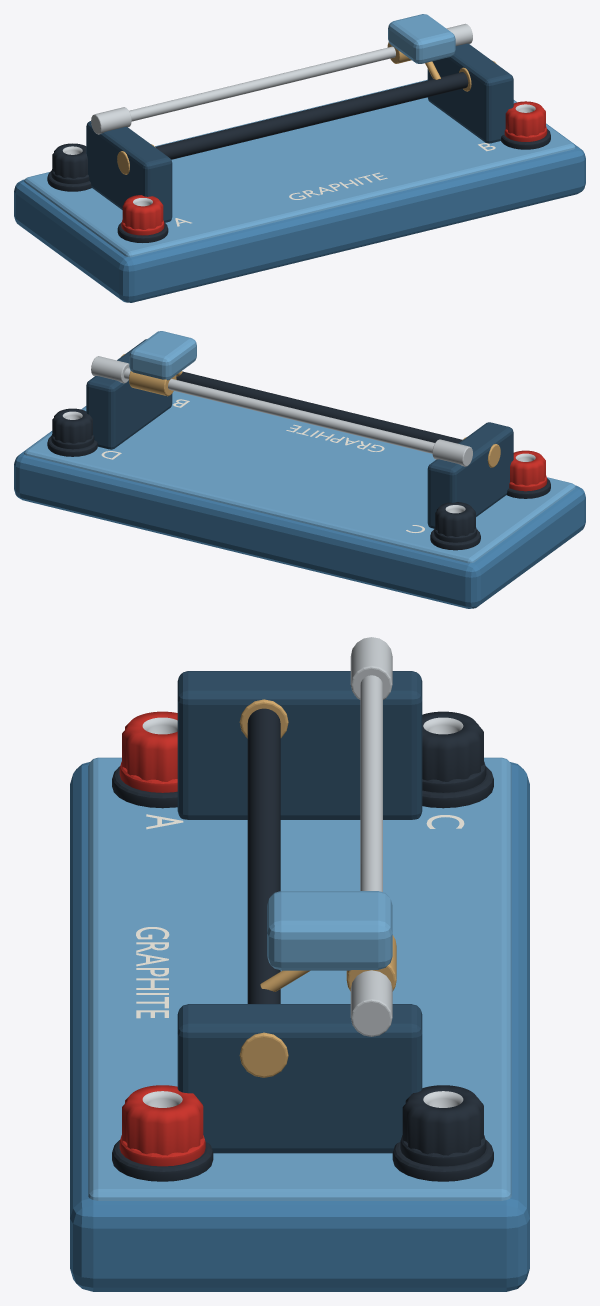
Rendered from pencil-rheostat.glb.
The picture shows the model from 3 angles, top to bottom: view 1: azimuth 30°, elevation 25°; view 2: azimuth 150°, elevation 25°; view 3: azimuth 270°, elevation 25°; orthographic projection. The views are drawn at different scales.
Visible parts, largest first — view 1: Fitted faceplate, Graphite rheostat platform, Exposed graphite core, Pencil supports, Pencil supports.001, Polished slider guide, Thumb grip, p binding socket, b binding socket, c binding socket, Guide-rail clamp, p socket washer (+4 smaller); view 2: Fitted faceplate, Graphite rheostat platform, Pencil supports, Pencil supports.001, Polished slider guide, Exposed graphite core, Thumb grip, n binding socket, c binding socket, p binding socket, Guide-rail clamp, Guide-rail clamp.001 (+5 smaller); view 3: Fitted faceplate, Graphite rheostat platform, Pencil supports.001, Pencil supports, Thumb grip, Exposed graphite core, n binding socket, b binding socket, Polished slider guide, c binding socket, p binding socket, Guide-rail clamp.001 (+10 smaller).
Part boxes in pixels (x1,y1,x2,y2): Fitted faceplate: (24,79,575,257); Graphite rheostat platform: (14,100,585,302); Exposed graphite core: (155,72,468,159); Pencil supports: (86,121,172,222); Pencil supports.001: (427,43,513,143); Polished slider guide: (129,46,395,121); Thumb grip: (388,14,455,63); p binding socket: (122,195,163,229); b binding socket: (505,101,545,136); c binding socket: (52,143,87,178); Guide-rail clamp: (91,107,131,134); p socket washer: (117,222,168,242); Fitted faceplate: (24,391,575,563); Graphite rheostat platform: (14,406,585,608); Pencil supports: (427,422,513,528); Pencil supports.001: (86,339,172,449); Polished slider guide: (124,368,434,453); Exposed graphite core: (176,371,462,443); Thumb grip: (129,331,196,380); n binding socket: (52,408,92,443); c binding socket: (435,502,475,536); p binding socket: (510,450,545,485); Guide-rail clamp: (432,439,472,466); Guide-rail clamp.001: (91,356,129,383); Fitted faceplate: (88,757,511,1200); Graphite rheostat platform: (70,762,529,1291); Pencil supports.001: (177,1004,422,1153); Pencil supports: (177,671,422,819); Thumb grip: (267,891,392,970); Exposed graphite core: (247,708,280,1003); n binding socket: (402,1085,483,1155); b binding socket: (122,1085,203,1155); Polished slider guide: (360,675,382,891); c binding socket: (422,711,483,781); p binding socket: (122,711,177,781); Guide-rail clamp.001: (350,970,392,1036).
Size of the model in its own units: 0.18 by 0.0555 by 0.077.
